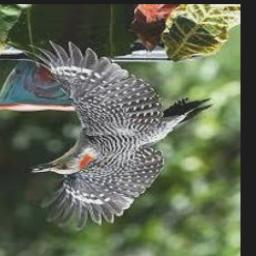Woodpecker: (8, 40, 212, 231)
